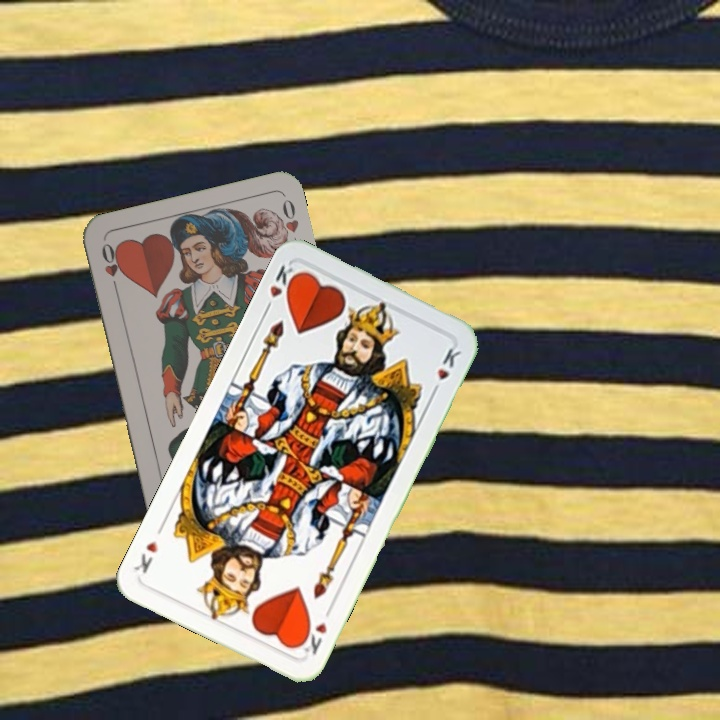HK: (260, 260, 302, 315), (295, 603, 334, 658)
HO: (97, 239, 123, 297)
